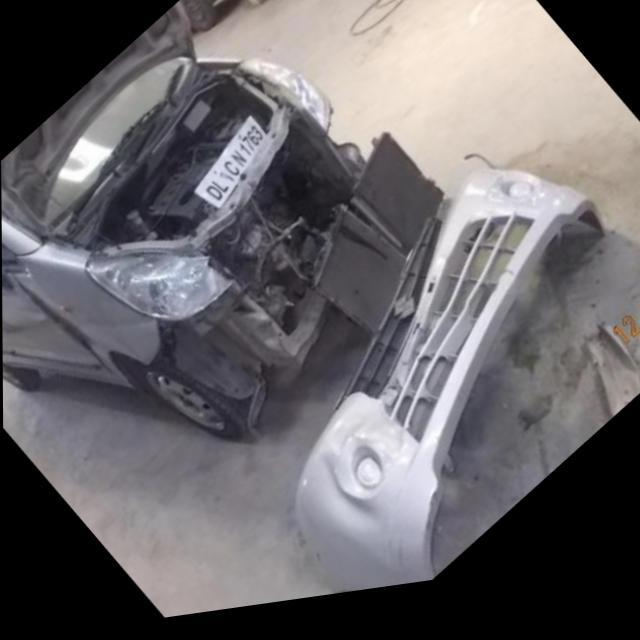dislocated part: (12, 274, 121, 389)
no part: (135, 80, 375, 412)
